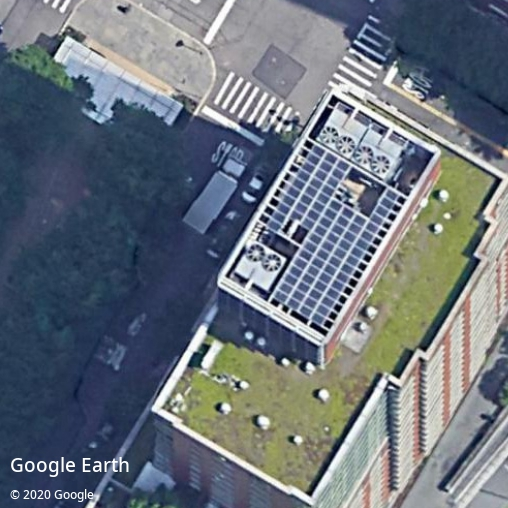Vent: (371, 155, 391, 174), (320, 126, 339, 145), (354, 146, 374, 164), (247, 244, 265, 262), (337, 136, 355, 154), (264, 255, 281, 272)
